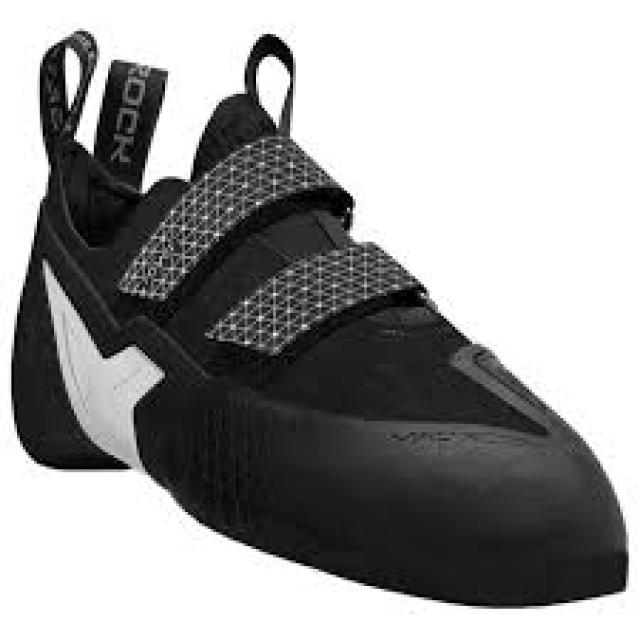climbing-shoes: (14, 32, 632, 610)
